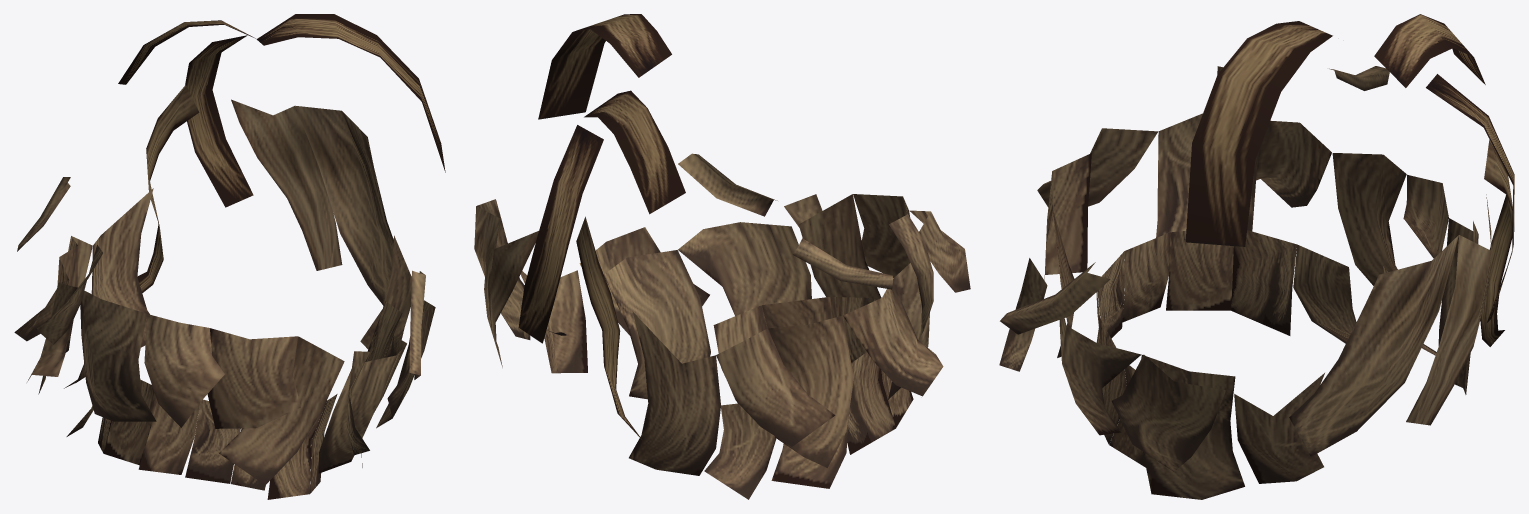
File: Heather_HAIR.obj
3 views of the same model, side by side, from view 1: azimuth 30°, elevation 25°; view 2: azimuth 150°, elevation 25°; view 3: azimuth 270°, elevation 25° (orthographic). The views are drawn at different scales.
Parts seen in each view (by area): view 1: Heather_HAIR; view 2: Heather_HAIR; view 3: Heather_HAIR.
Part boxes in pixels (box(x1,y1,x2,y2)): Heather_HAIR: box(14, 14, 445, 499); Heather_HAIR: box(474, 14, 970, 499); Heather_HAIR: box(999, 14, 1514, 499).
Bounding box in the file's own units: 1.79 × 1.7 × 1.7.
